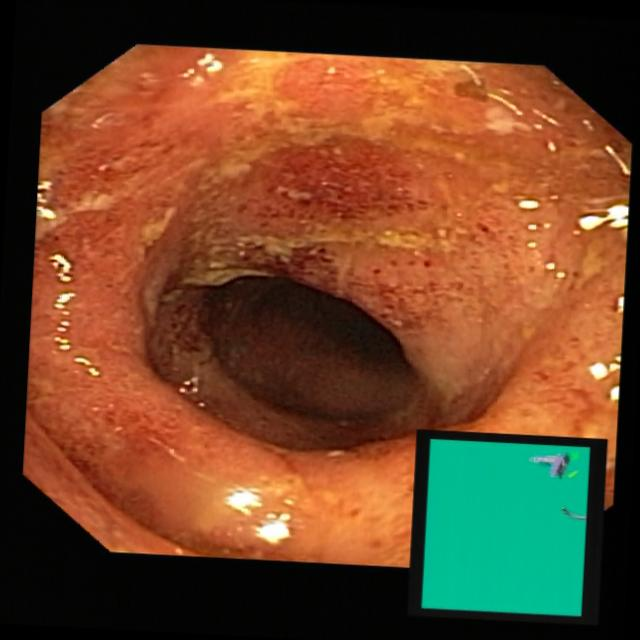ulcerative-colities: (29, 43, 635, 562)
